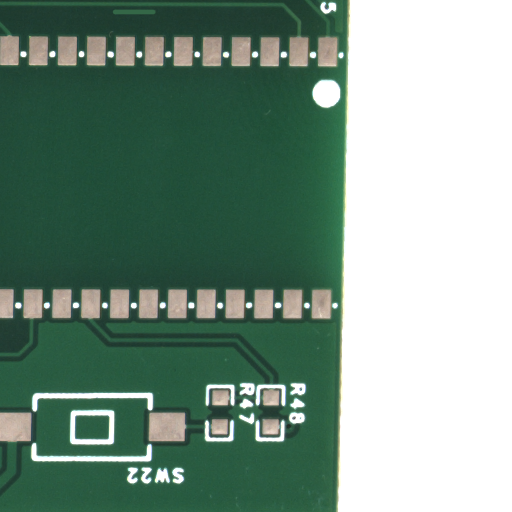Spurious_copper: (134, 12, 178, 20)
